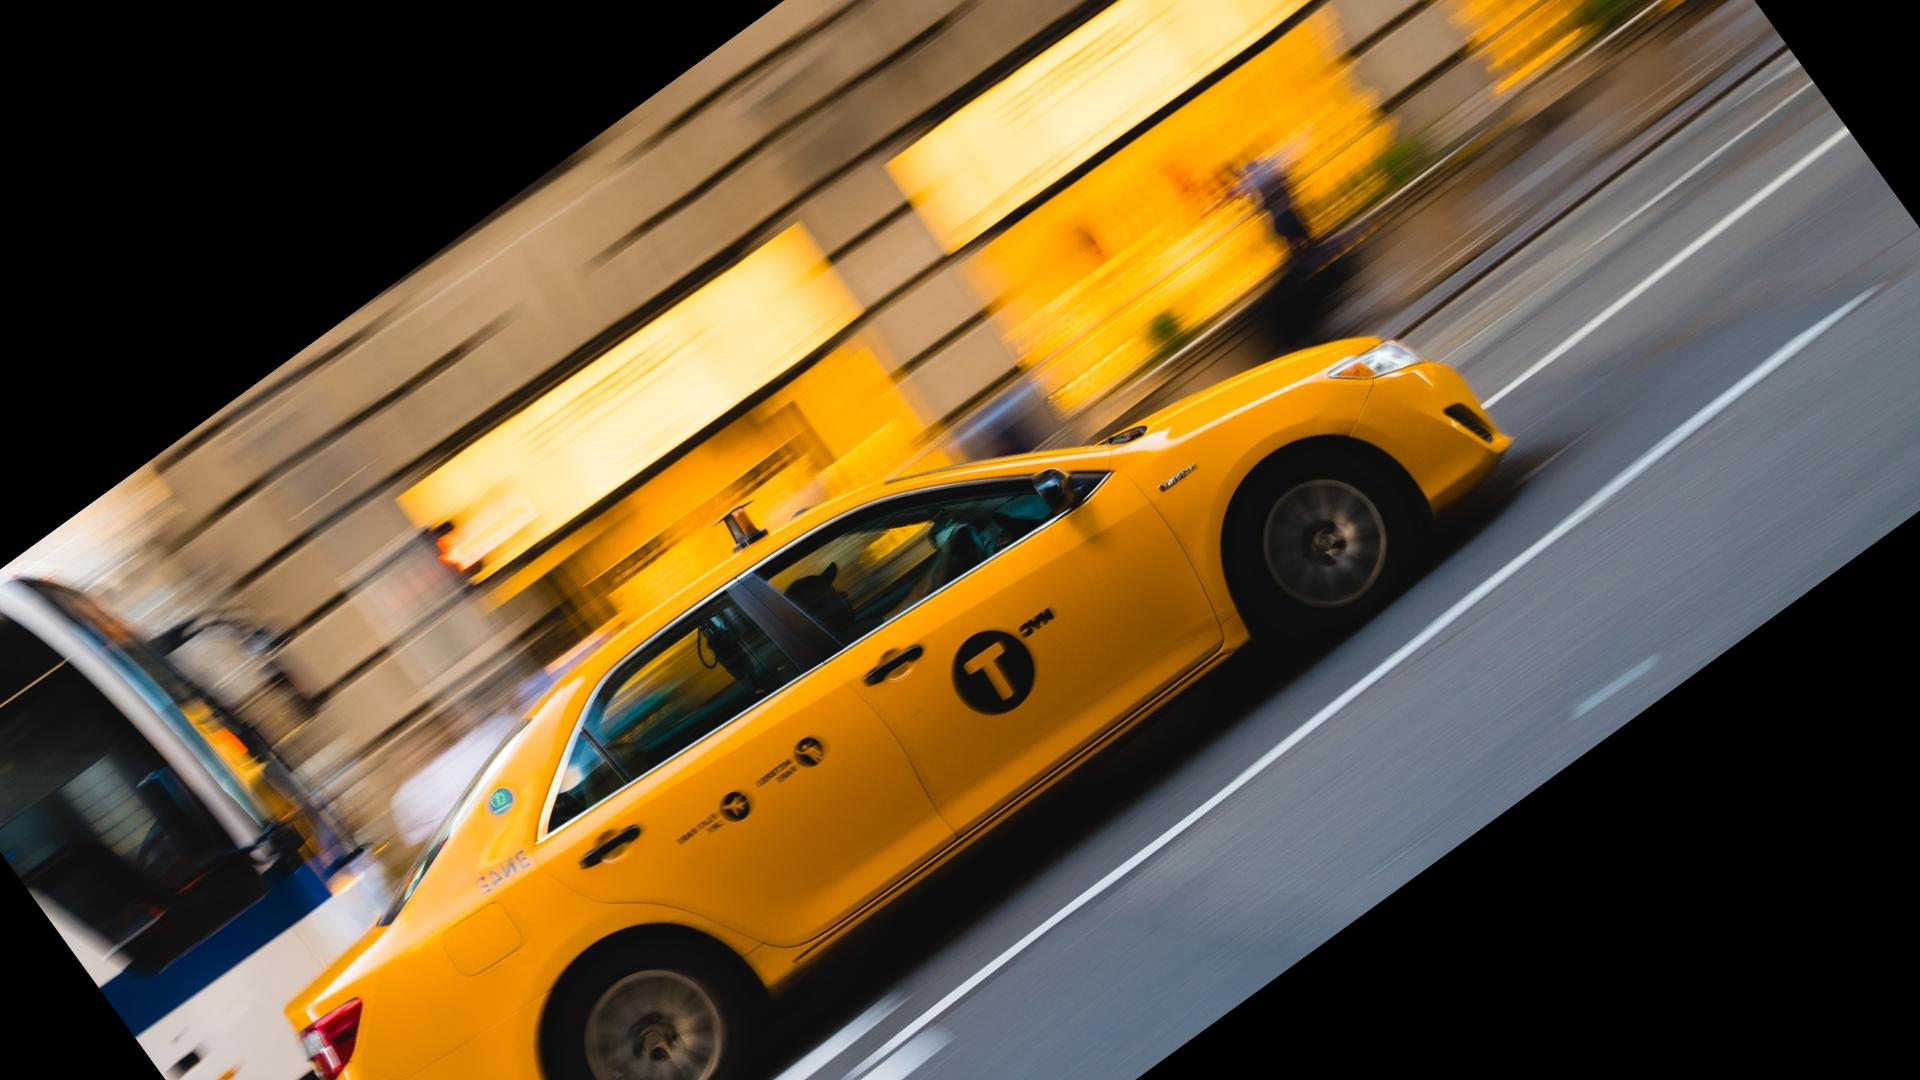taxi: (244, 287, 1547, 1080)
